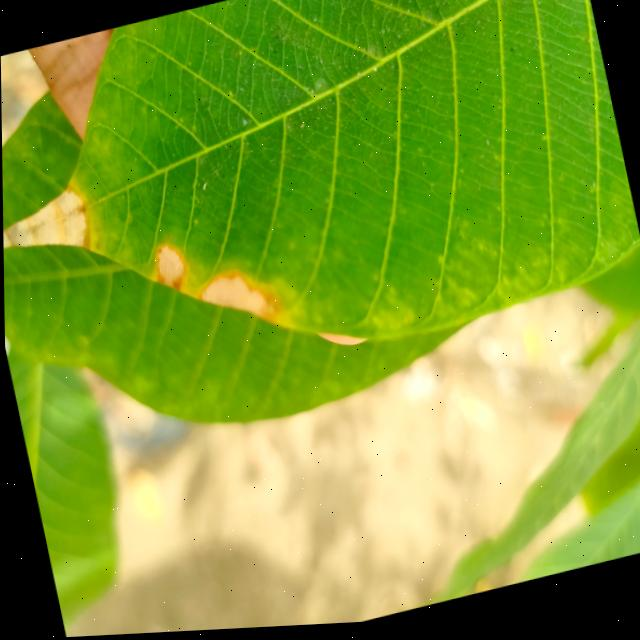Leaf-Blight: (2, 185, 94, 272), (191, 263, 282, 341), (149, 242, 191, 301)
